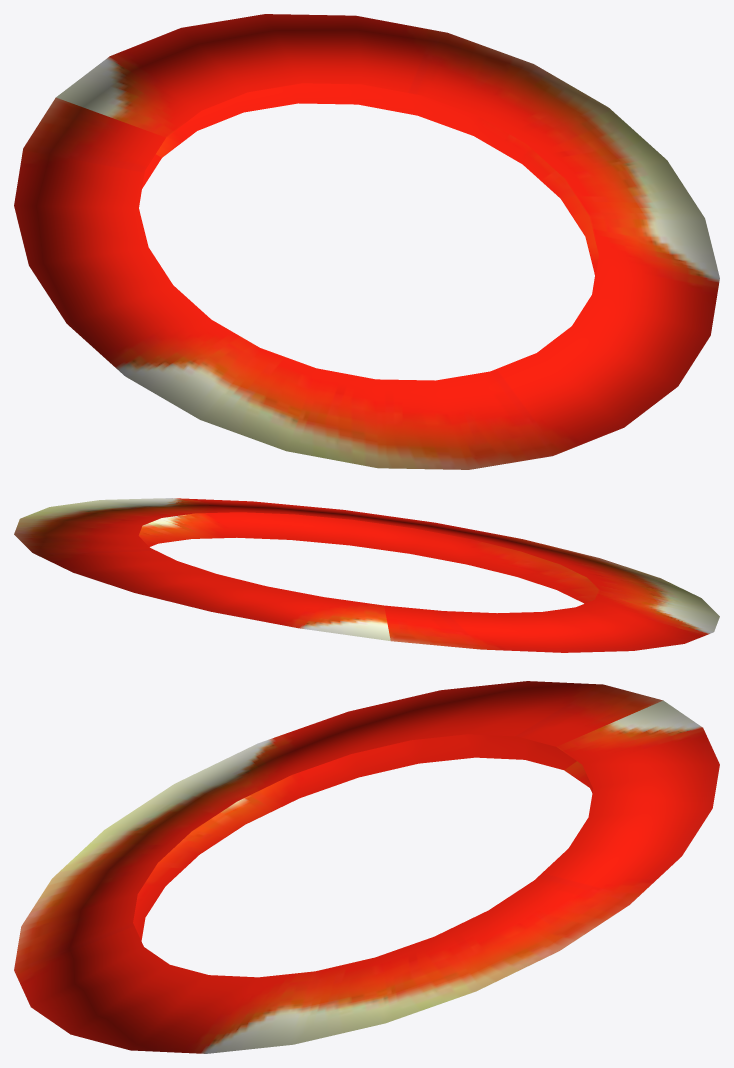
File: famudijing_atk_1.fbx
The picture shows the model from 3 angles, top to bottom: view 1: azimuth 30°, elevation 25°; view 2: azimuth 150°, elevation 25°; view 3: azimuth 270°, elevation 25°; orthographic projection. The views are drawn at different scales.
Visible parts, largest first — view 1: daoguang; view 2: daoguang; view 3: daoguang.
Boxes of the visible parts, box(x1,y1,x2,y2) form: daoguang: box(14, 14, 719, 469); daoguang: box(14, 498, 719, 652); daoguang: box(14, 681, 719, 1053).
Bounding box in the file's own units: 10.19 × 2.91 × 9.76.
Materials: 1 (1 with a texture image).
